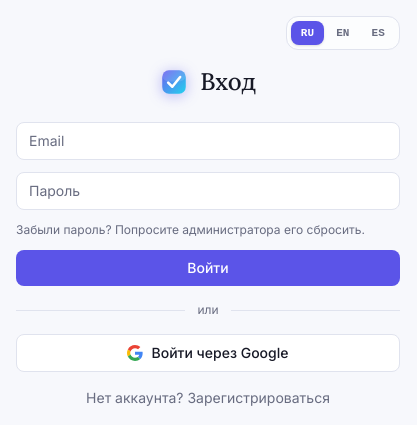
LoginView › says what it is doing while it signs up
Step 1. Click the button "Нет аккаунта? Зарегистрироваться" → {"x": 208, "y": 398}, box [16, 388, 400, 408]
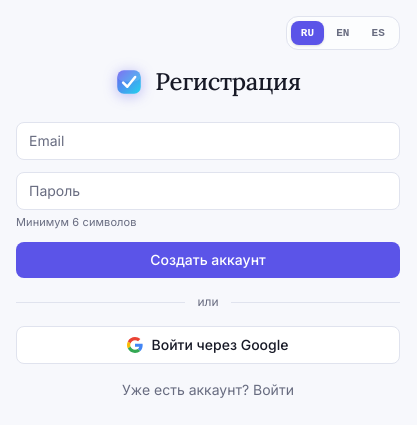
Step 2. Type "new@example.com" into the field with placeholder "Email" → {"x": 208, "y": 141}, box [16, 122, 400, 160]
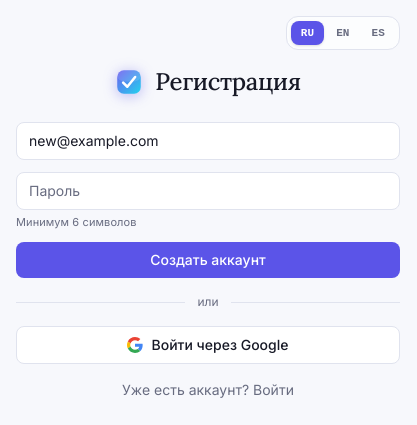
Step 3. Type "long-enough" into the password field with placeholder "Пароль" → {"x": 208, "y": 191}, box [16, 172, 400, 210]
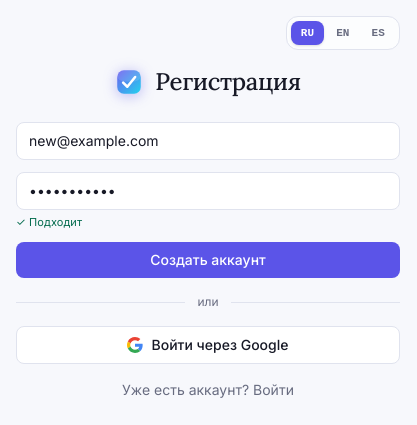
Step 4. Submit the form, box [16, 122, 400, 278]
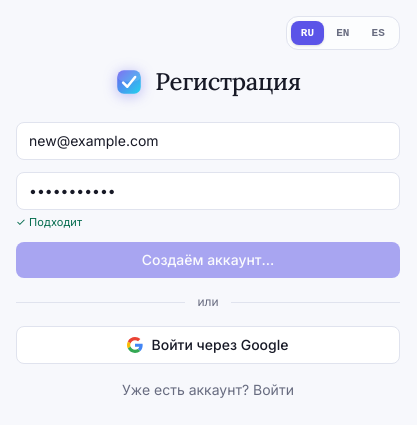
Expected: the submit button reads "Создаём аккаунт…", [16, 242, 400, 278]
